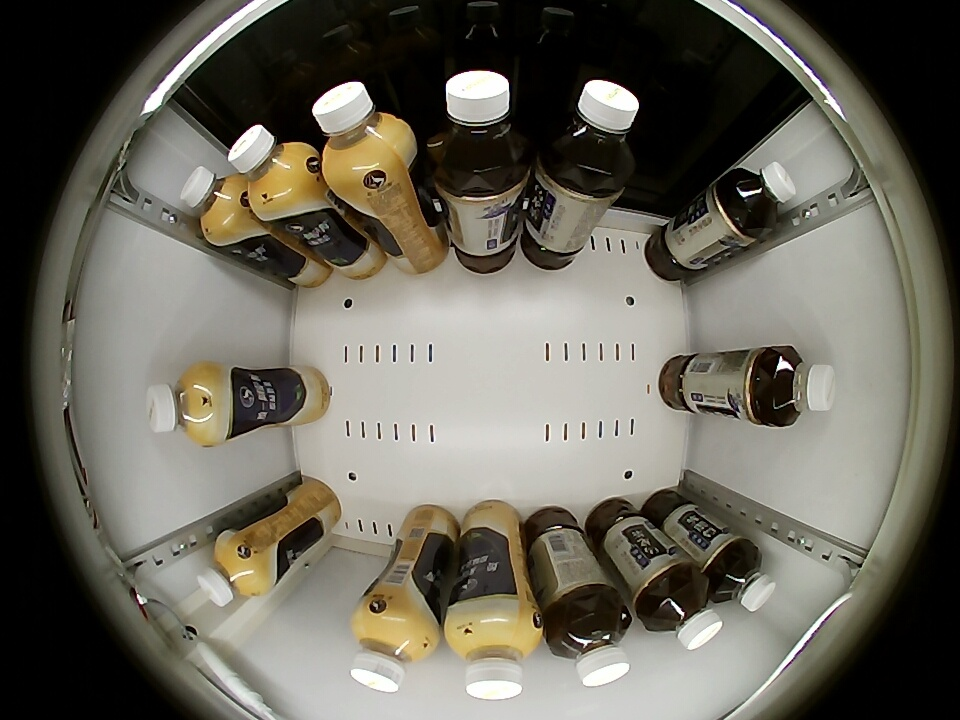asamu: (311, 80, 413, 184), (446, 605, 542, 702), (349, 606, 437, 694), (227, 124, 316, 210), (147, 365, 223, 447), (180, 166, 247, 241), (197, 534, 265, 607)
wulongcha: (427, 69, 533, 187), (543, 78, 640, 187), (547, 599, 632, 688), (758, 346, 837, 428), (643, 572, 724, 650), (727, 161, 797, 232), (710, 541, 776, 612)
